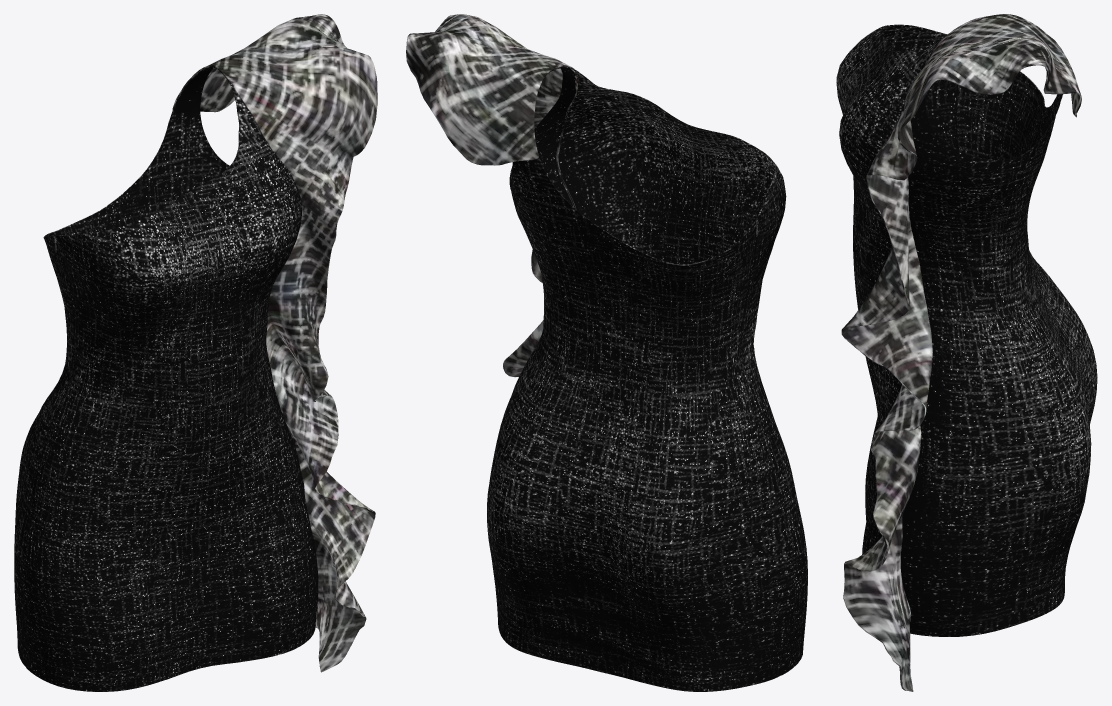
The model's file is elvs-frilled-party-dress.glb.
3 views of the same model, side by side, from view 1: azimuth 30°, elevation 25°; view 2: azimuth 150°, elevation 25°; view 3: azimuth 270°, elevation 25° (orthographic). The views are drawn at different scales.
Parts seen in each view (by area): view 1: frilled party dress; view 2: frilled party dress; view 3: frilled party dress.
Part boxes in pixels (box(x1,y1,x2,y2)): frilled party dress: box(14, 14, 377, 691); frilled party dress: box(406, 14, 807, 691); frilled party dress: box(836, 14, 1097, 691).
Size of the model in its own units: 47.19 by 79.97 by 28.43.
Materials: 1 (1 with a texture image).
